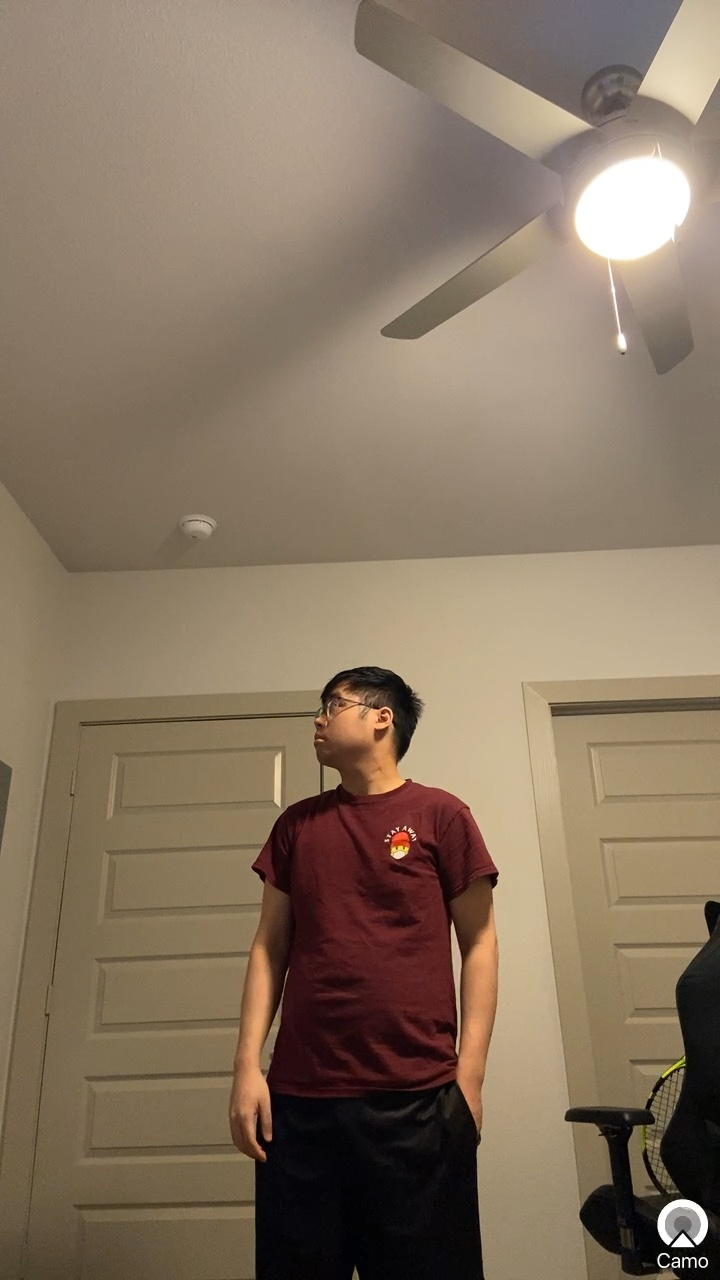Person: (214, 661, 540, 1280)
